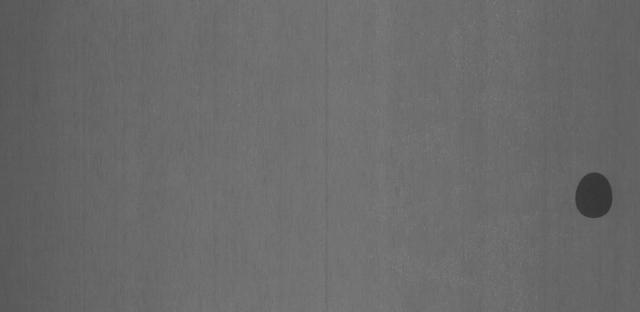oil_spot: (568, 158, 619, 226)
